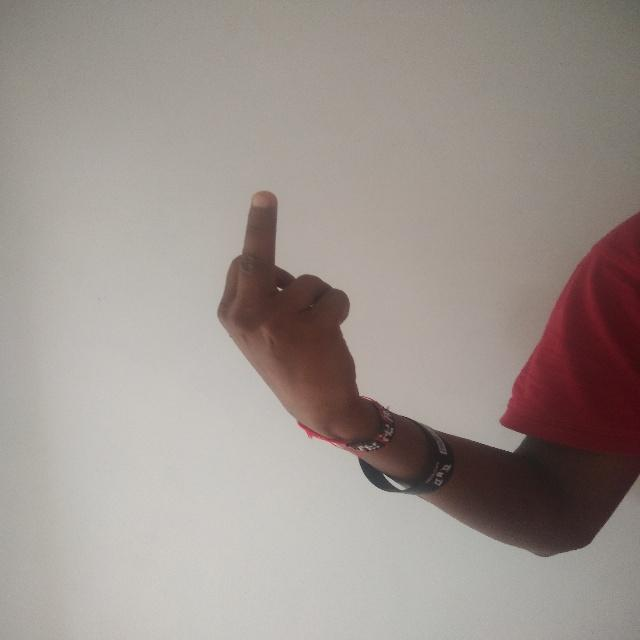Middle Finger: (212, 187, 375, 454)
